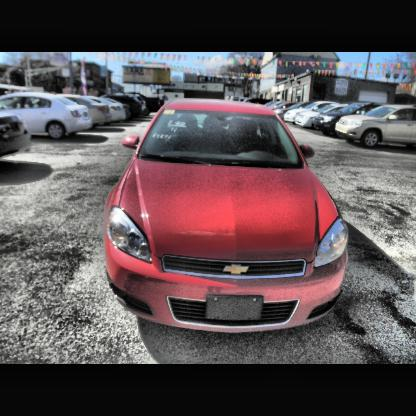Chevrolet Impala Sedan 2007: (101, 97, 366, 336)
